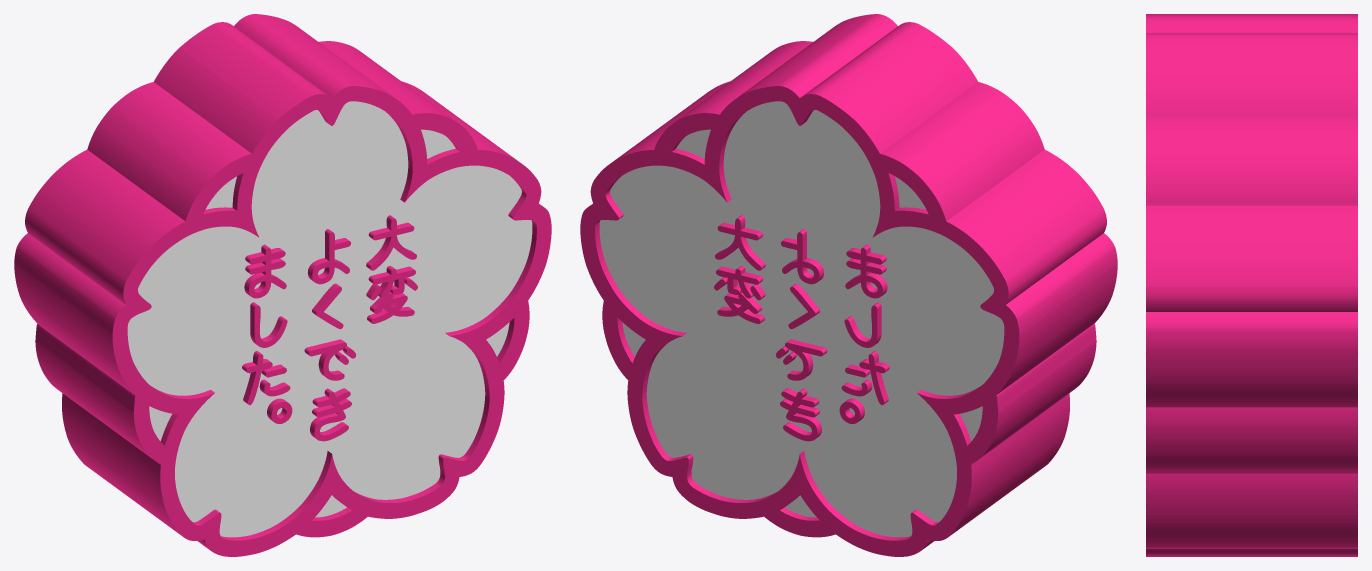
3 renders of one model, left to right at view 1: azimuth 30°, elevation 25°; view 2: azimuth 150°, elevation 25°; view 3: azimuth 270°, elevation 25°, orthographic. The views are drawn at different scales.
Parts seen in each view (by area): view 1: U+1F4AE_layer01_obj00, U+1F4AE_layer00_obj00; view 2: U+1F4AE_layer01_obj00, U+1F4AE_layer00_obj00; view 3: U+1F4AE_layer01_obj00.
Boxes of the visible parts, x1,y1,x2,y2 form: U+1F4AE_layer01_obj00: (14, 14, 551, 556); U+1F4AE_layer00_obj00: (127, 101, 532, 537); U+1F4AE_layer01_obj00: (580, 14, 1117, 556); U+1F4AE_layer00_obj00: (599, 101, 1004, 537); U+1F4AE_layer01_obj00: (1146, 14, 1357, 556).
Size of the model in its own units: 0.5673 by 0.5491 by 0.22.
